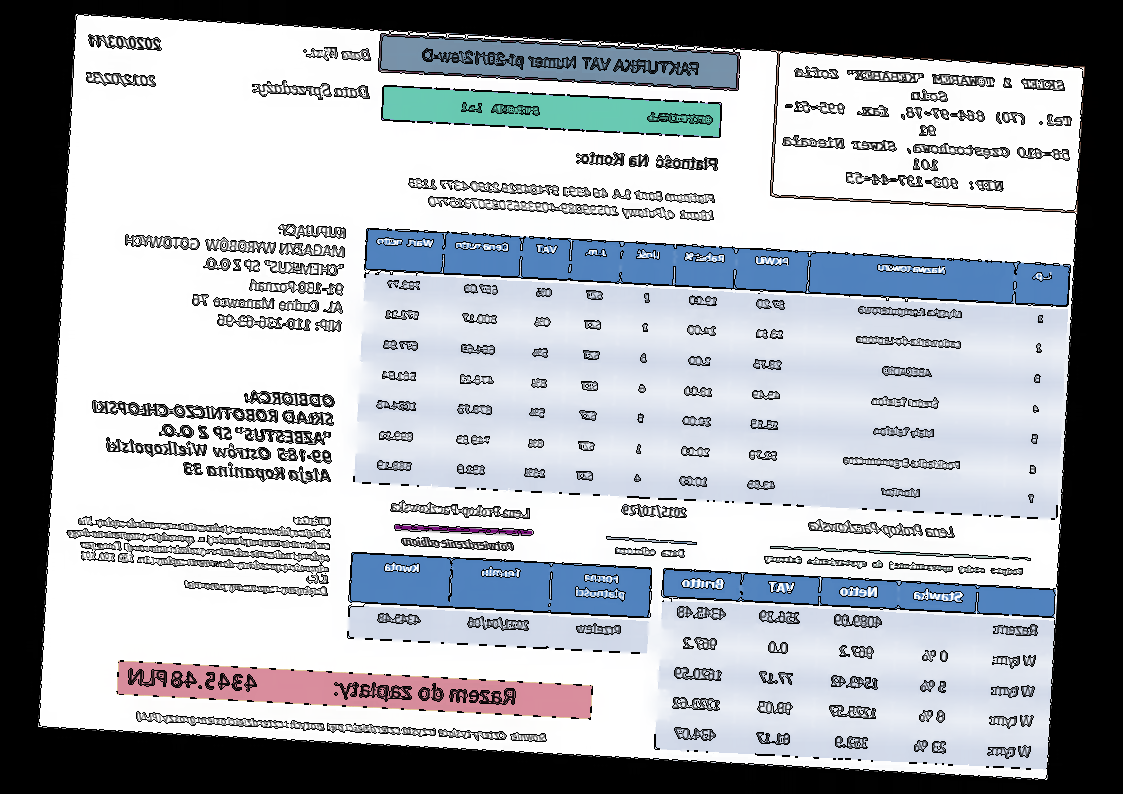Table: (352, 227, 1073, 521), (652, 567, 1057, 772), (346, 551, 653, 655)
TextBox: (778, 63, 1079, 196), (118, 211, 349, 335), (61, 501, 334, 599), (88, 380, 337, 486), (127, 665, 517, 710), (405, 174, 719, 224), (133, 709, 548, 745), (418, 43, 702, 81), (457, 99, 714, 127), (762, 553, 1026, 578), (806, 516, 957, 542), (573, 148, 720, 174), (391, 497, 534, 522), (249, 78, 372, 103), (401, 533, 517, 553), (86, 32, 163, 53), (84, 69, 159, 89), (302, 43, 373, 64), (620, 501, 689, 522), (614, 543, 687, 560)
